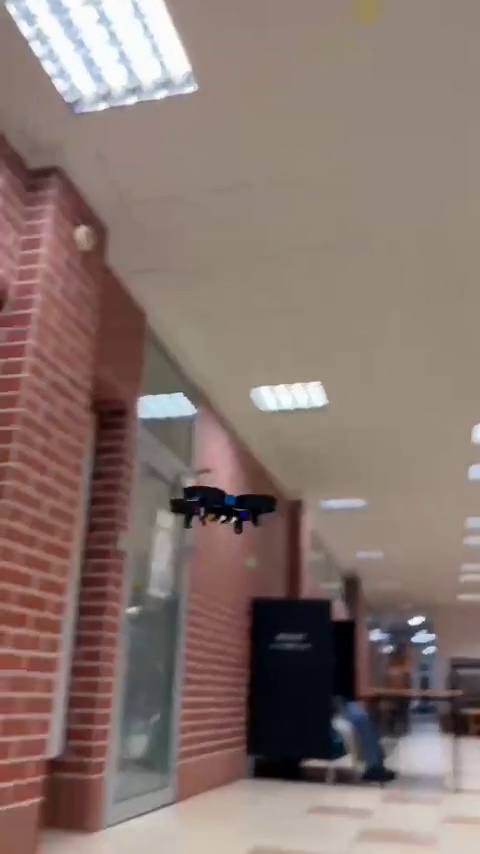drone: (164, 484, 276, 532)
